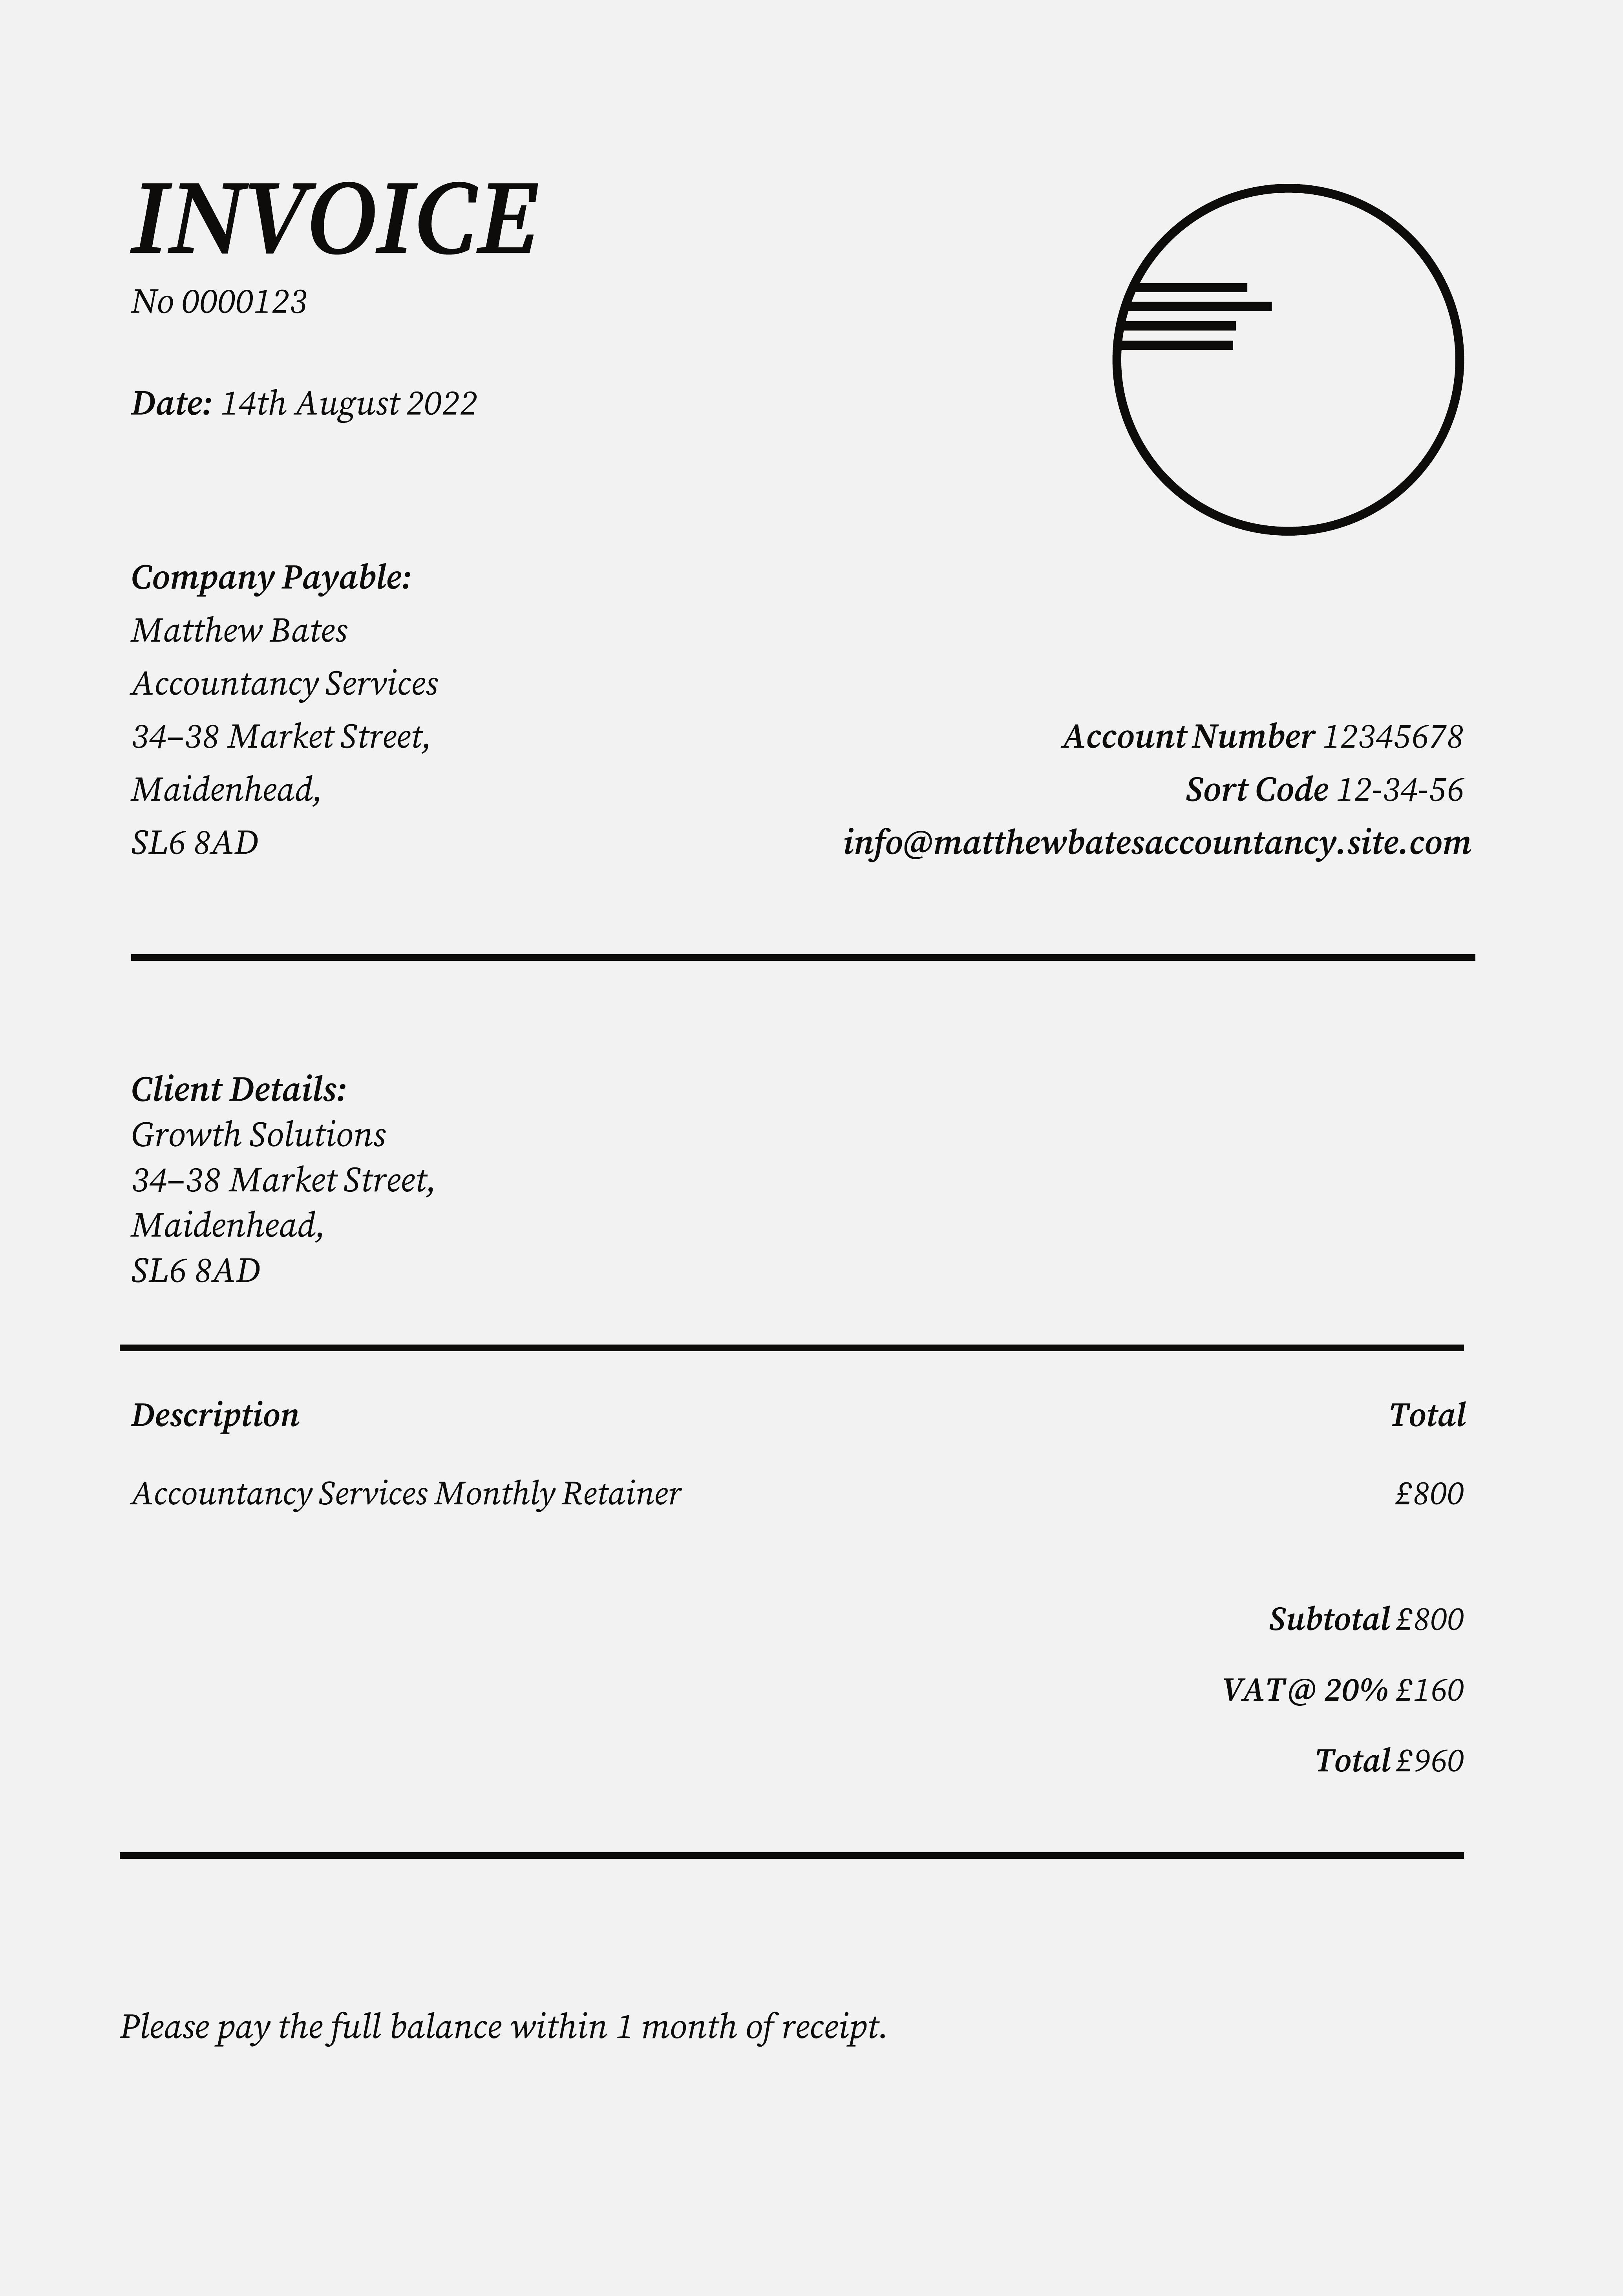ROI: (118, 1379, 1488, 1523), (105, 546, 467, 877), (123, 1042, 446, 1295), (1056, 690, 1514, 819), (1215, 1588, 1490, 1794), (119, 278, 490, 427)
